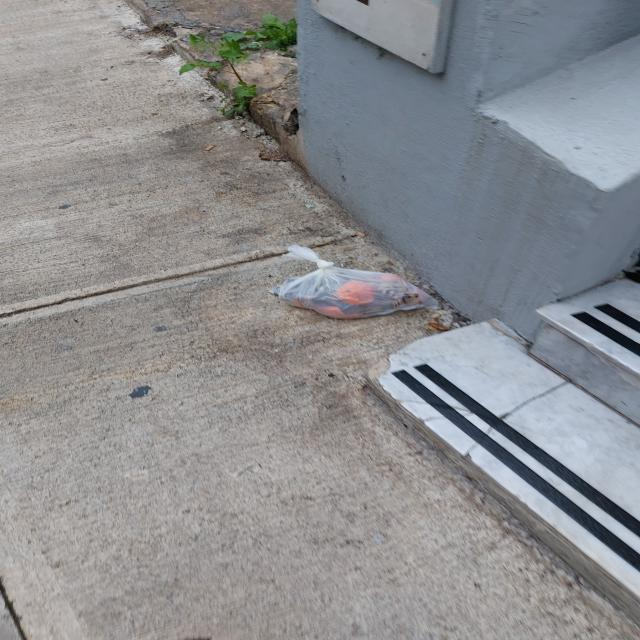Organic Waste -White Bag-: (255, 244, 446, 325)
